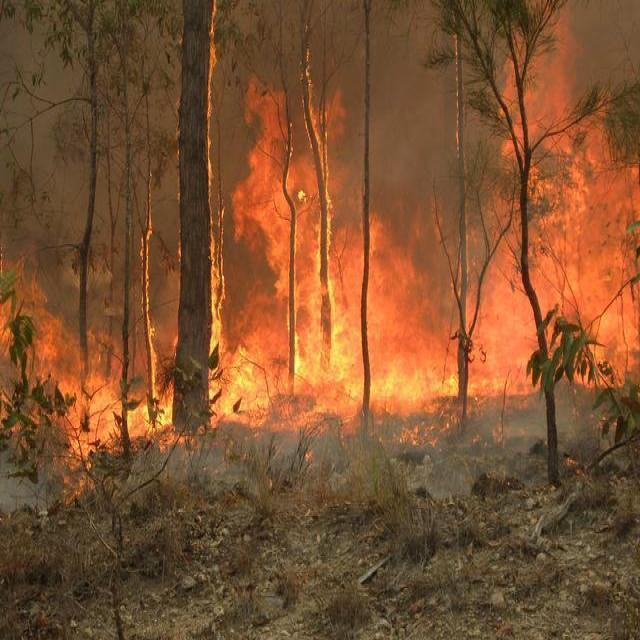Fire: (294, 280, 456, 401), (208, 322, 268, 416)
